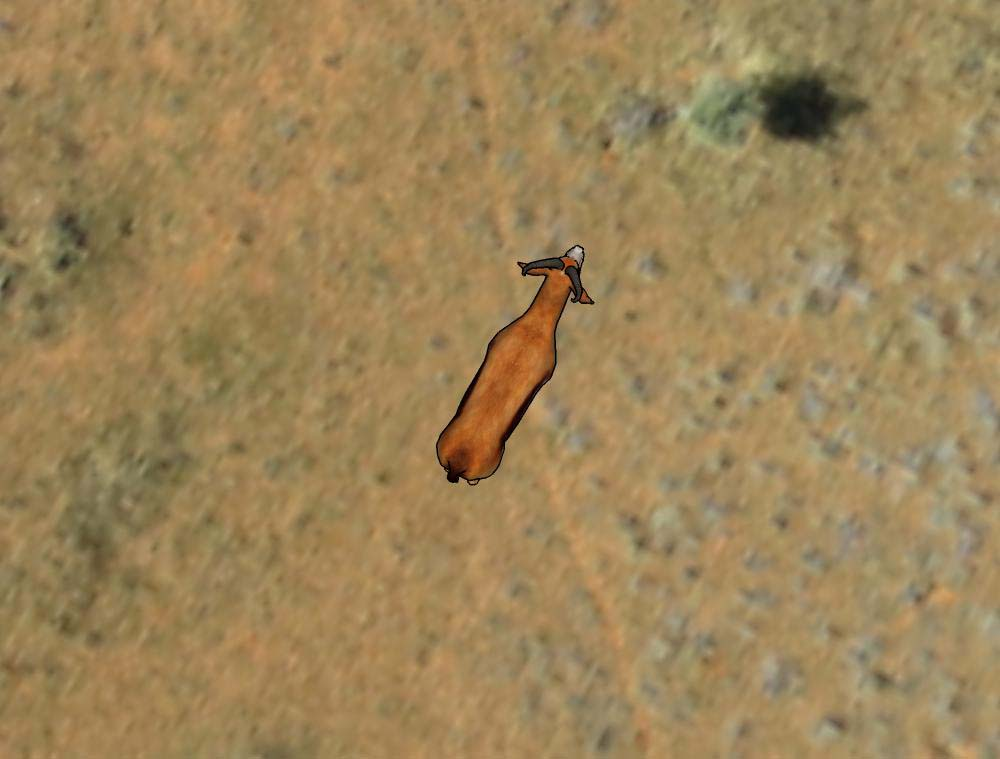springbok: (433, 236, 599, 490)
